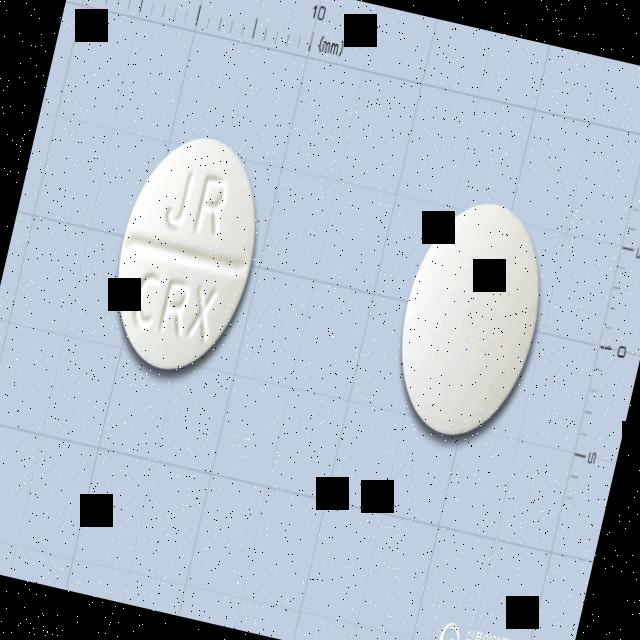Ciroxin: (90, 120, 280, 394)
